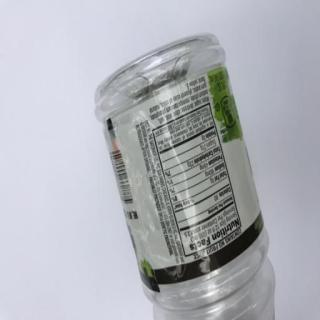Plastic-bottle: (93, 31, 278, 320)
